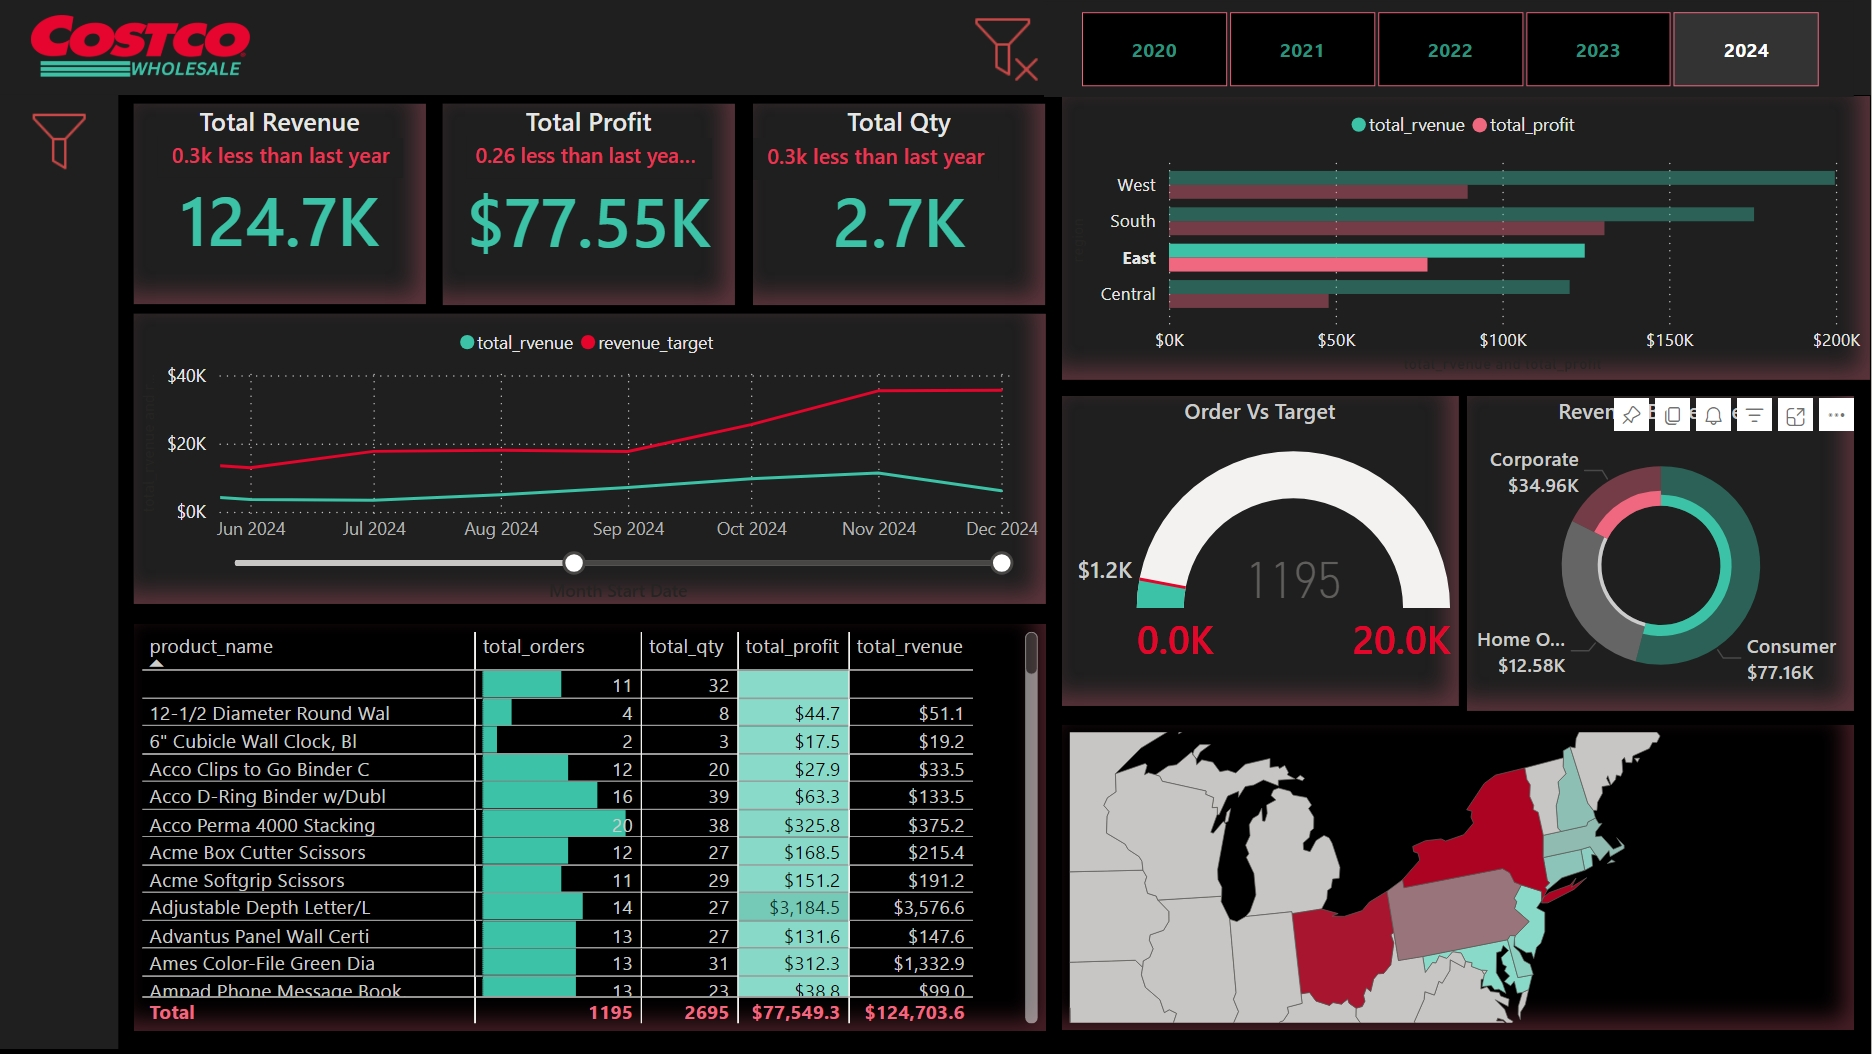

This screenshot's page, from the dashboard's own definition file:
{"tool":"powerbi","page":{"name":"Page 1","canvas":[1280,720],"ordinal":0},"visuals":[{"type":"shape","box":[0,0,1280.1,67.2],"z":0},{"type":"shape","box":[0,67.2,81.1,653.3],"z":1000},{"type":"image","box":[13.6,0,165,72.7],"z":2000},{"type":"card","title":"Total Revenue","fields":{"Values":["mesures_table.total_rvenue"]},"box":[90.9,72.7,200,137.1],"z":3000},{"type":"card","title":"Total Qty","fields":{"Values":["mesures_table.total_qty"]},"box":[514.8,72.7,199.9,137.8],"z":4000},{"type":"card","title":"Total Profit","fields":{"Values":["mesures_table.total_profit"]},"box":[302.9,72.7,199.9,137.8],"z":5000},{"type":"clusteredBarChart","fields":{"Category":["customers.region"],"Y":["mesures_table.total_rvenue","mesures_table.total_profit"]},"box":[726.8,68.1,552.7,193.8],"z":6000},{"type":"lineChart","fields":{"Category":["date_table.Month Start Date"],"Y":["mesures_table.total_rvenue","mesures_table.revenue_target"]},"box":[90.9,216.5,623.9,198.4],"z":7000},{"type":"gauge","title":"Order Vs Target","fields":{"Y":["mesures_table.total_orders"],"TargetValue":["mesures_table.target_orders"]},"box":[726.8,272.6,271,212],"z":8000},{"type":"donutChart","title":"Revenue By Segment","fields":{"Y":["mesures_table.total_rvenue"],"Category":["customers.Segment"]},"box":[1003.9,272.6,265,215],"z":9000},{"type":"tableEx","fields":{"Values":["products.product_name","mesures_table.total_orders","mesures_table.total_qty","mesures_table.total_profit","mesures_table.total_rvenue"]},"box":[90.9,428.5,623.9,278.6],"z":10000},{"type":"shapeMap","fields":{"Category":["customers.state"],"Value":["mesures_table.total_rvenue"]},"box":[726.8,498.2,542.1,209],"z":11000},{"type":"slicer","fields":{"Values":["date_table.Year"]},"box":[714.7,3,554.2,65.1],"z":12000},{"type":"image","title":"Clear Filter Button","box":[661.7,9.1,53,53],"z":13000},{"type":"image","title":"Open filter Pane Button","box":[7,72.7,67.2,51.8],"z":14000},{"type":"card","fields":{"Values":["mesures_table.kpi Qty YOY"]},"box":[107.5,96.9,168.1,27.3],"z":24000},{"type":"card","fields":{"Values":["mesures_table.KPI profit YOY"]},"box":[319,96.5,167.9,28],"z":25000},{"type":"card","fields":{"Values":["mesures_table.kpi Qty YOY"]},"box":[514.8,96.9,168.1,28.8],"z":26000}]}

Visuals, with their boxes in screenshot pixels (x1, y1, x2, y2), scaled from the page's 1280x720 canvas onto the 1872x1054 screenshot:
shape: box(0, 0, 1871, 98)
shape: box(0, 98, 119, 1053)
image: box(20, 0, 261, 106)
"Total Revenue" card: box(133, 106, 425, 307)
"Total Qty" card: box(753, 106, 1045, 308)
"Total Profit" card: box(443, 106, 735, 308)
clusteredBarChart - customers.region x mesures_table.total_rvenue: box(1063, 100, 1871, 383)
lineChart - date_table.Month Start Date x mesures_table.total_rvenue: box(133, 317, 1045, 607)
"Order Vs Target" gauge: box(1063, 399, 1459, 709)
"Revenue By Segment" donutChart: box(1468, 399, 1856, 714)
tableEx - products.product_name x mesures_table.total_orders: box(133, 627, 1045, 1035)
shapeMap - customers.state x mesures_table.total_rvenue: box(1063, 729, 1856, 1035)
slicer - date_table.Year: box(1045, 4, 1856, 100)
"Clear Filter Button" image: box(968, 13, 1045, 91)
"Open filter Pane Button" image: box(10, 106, 109, 182)
card - mesures_table.kpi Qty YOY: box(157, 142, 403, 182)
card - mesures_table.KPI profit YOY: box(467, 141, 712, 182)
card - mesures_table.kpi Qty YOY: box(753, 142, 999, 184)
